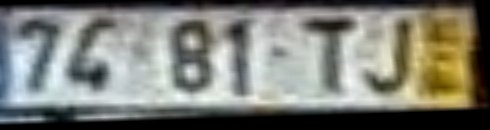1: (223, 17, 260, 101)
4: (65, 19, 117, 98)
7: (17, 19, 65, 97)
8: (168, 16, 221, 97)
J: (361, 16, 418, 99)
T: (300, 15, 365, 100)
